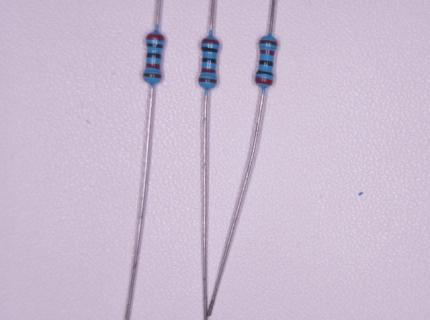Black band: (259, 60, 274, 66), (257, 70, 274, 75), (203, 58, 216, 64), (147, 44, 164, 48), (202, 48, 219, 52), (147, 53, 162, 57)
Brown band: (259, 40, 277, 46), (144, 73, 161, 78), (199, 79, 217, 83)
Red band: (256, 77, 273, 86), (146, 34, 164, 40), (201, 39, 219, 44), (260, 50, 274, 56), (146, 64, 160, 69), (202, 69, 216, 74)
